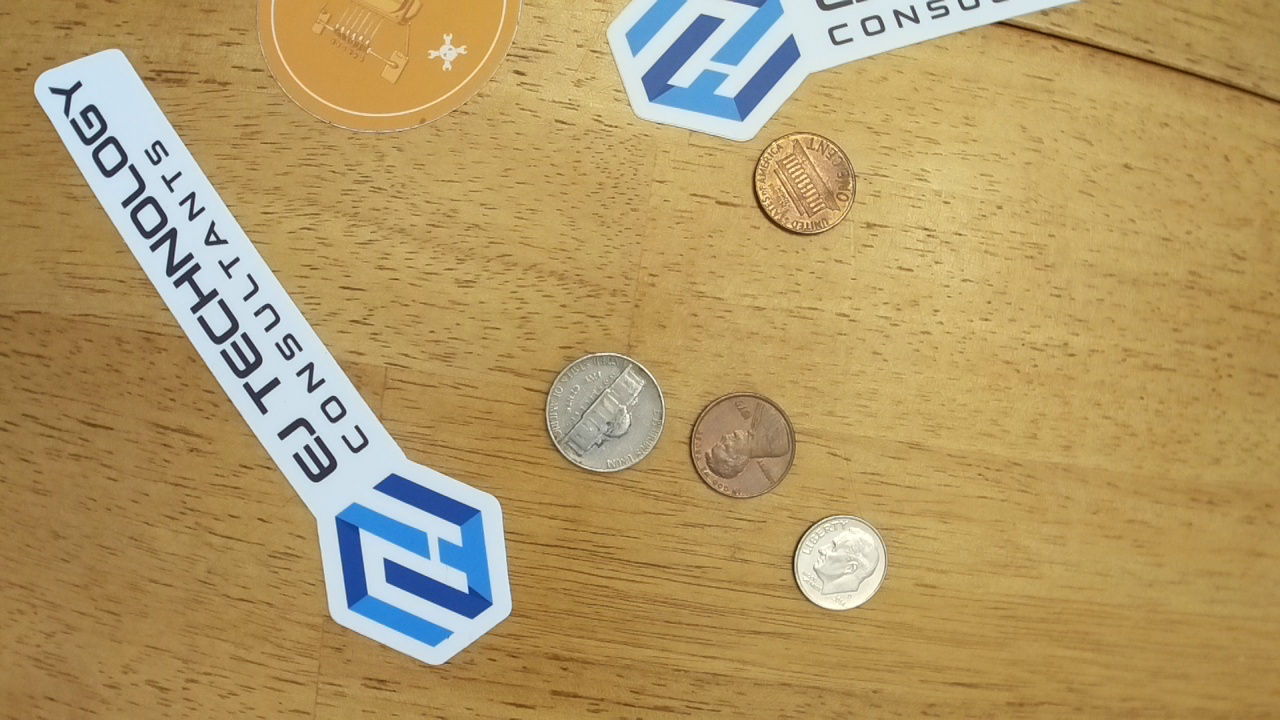dime: (789, 512, 889, 614)
nickel: (540, 349, 668, 473)
penny: (688, 389, 796, 503), (750, 128, 856, 238)
